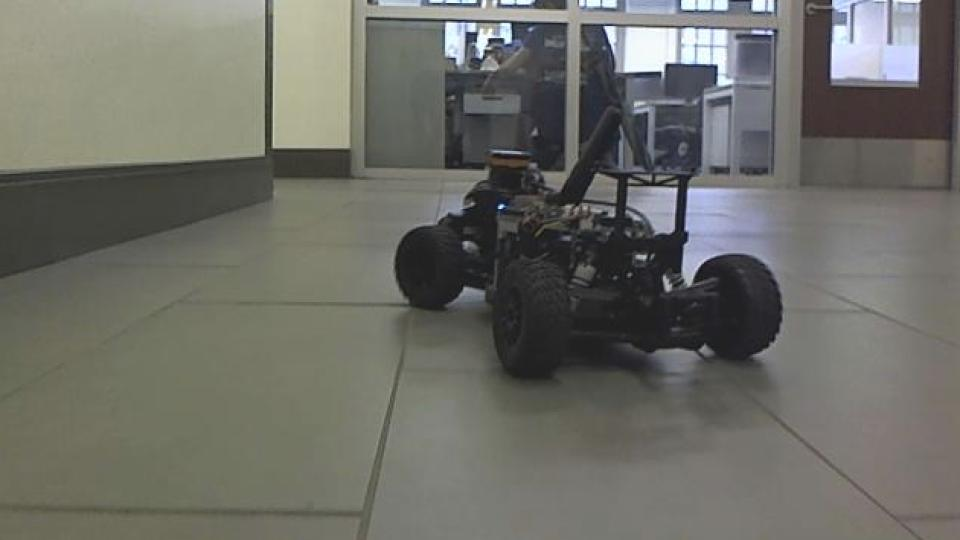car: (390, 102, 785, 382)
